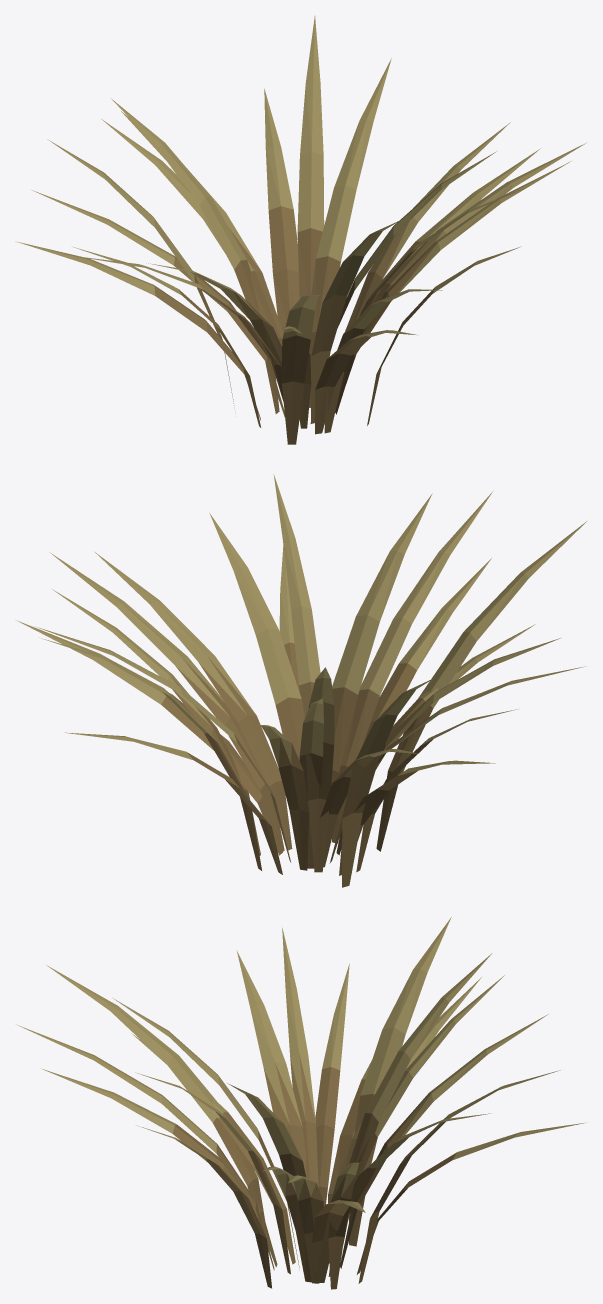
The model's file is grass_tuft_d_autumn.glb.
3 views of the same model, one above another, from view 1: azimuth 30°, elevation 25°; view 2: azimuth 150°, elevation 25°; view 3: azimuth 270°, elevation 25° (orthographic). The views are drawn at different scales.
Visible parts, largest first — view 1: geometry; view 2: geometry; view 3: geometry.
Boxes of the visible parts, left/top/right/bottom form: geometry: left=15, top=16, right=585, bottom=444; geometry: left=16, top=474, right=586, bottom=887; geometry: left=16, top=917, right=585, bottom=1289.
Size of the model in its own units: 0.4868 by 0.25 by 0.4851.
